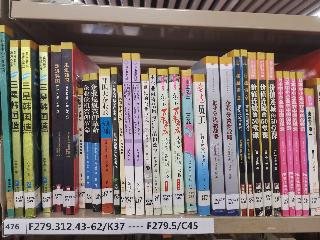book-spine: (204, 55, 228, 217), (218, 58, 240, 216), (253, 52, 274, 217), (18, 38, 37, 219), (246, 52, 265, 218), (59, 41, 76, 215), (0, 25, 15, 219), (232, 50, 249, 215), (239, 49, 255, 218), (9, 41, 24, 218), (180, 70, 198, 216), (266, 53, 282, 217), (129, 53, 145, 216), (192, 74, 210, 216), (146, 68, 163, 216), (168, 66, 185, 214), (49, 45, 64, 212), (37, 46, 52, 212), (157, 68, 173, 215), (98, 68, 114, 214), (122, 53, 136, 216), (303, 87, 320, 217), (275, 71, 290, 217), (295, 73, 310, 216), (282, 71, 296, 217), (88, 72, 102, 213), (289, 71, 302, 217), (140, 74, 153, 215), (109, 67, 121, 215), (81, 73, 93, 210), (115, 85, 127, 214), (75, 87, 86, 209)
